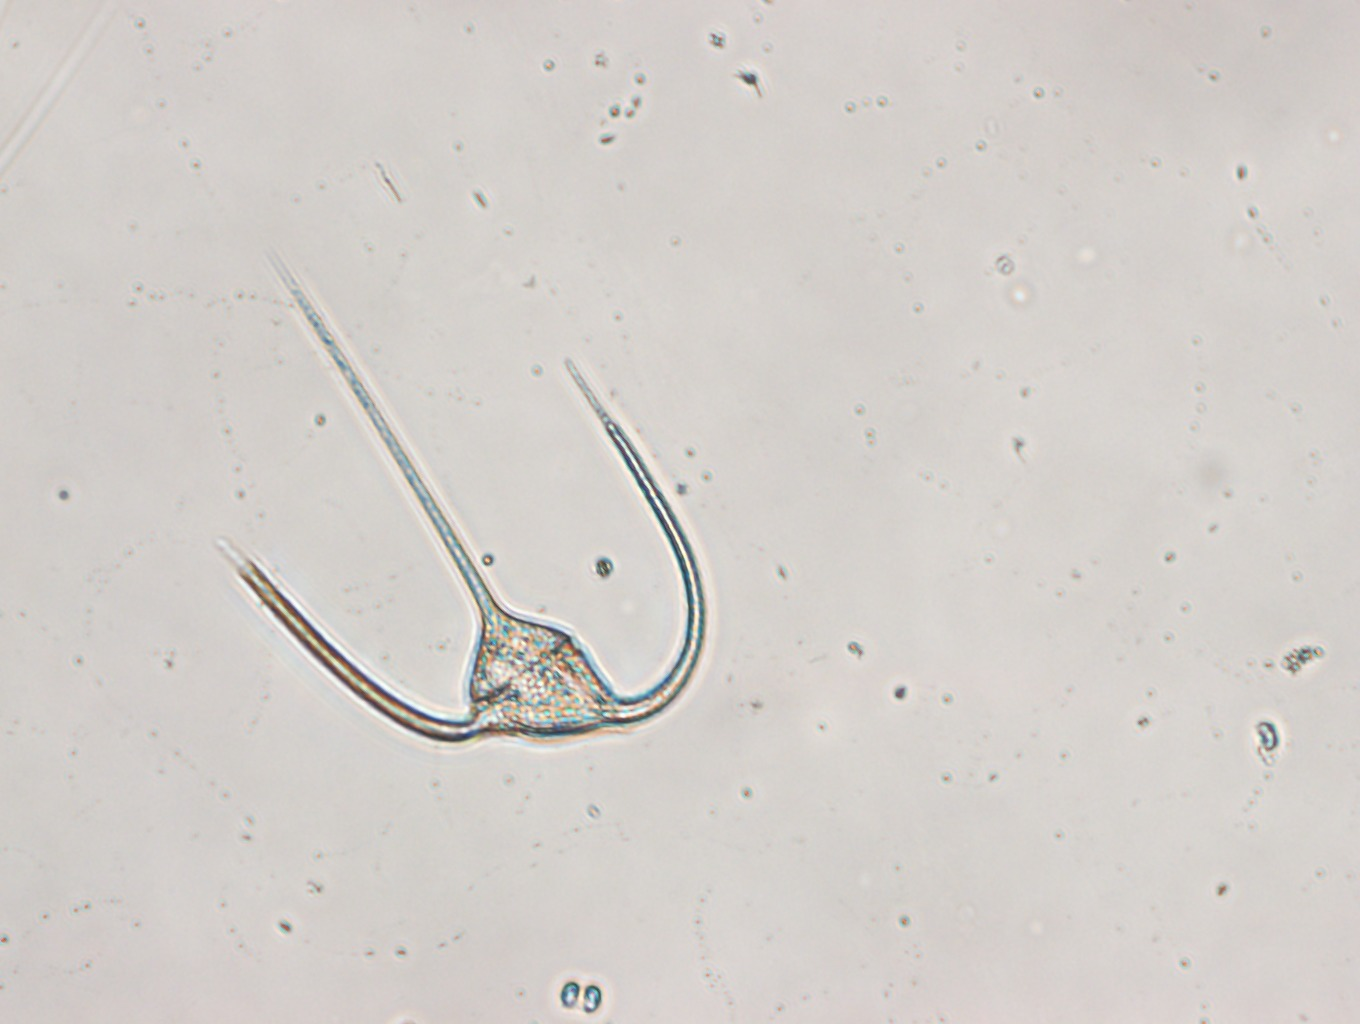ceratium trichoceros: (217, 244, 712, 745)
